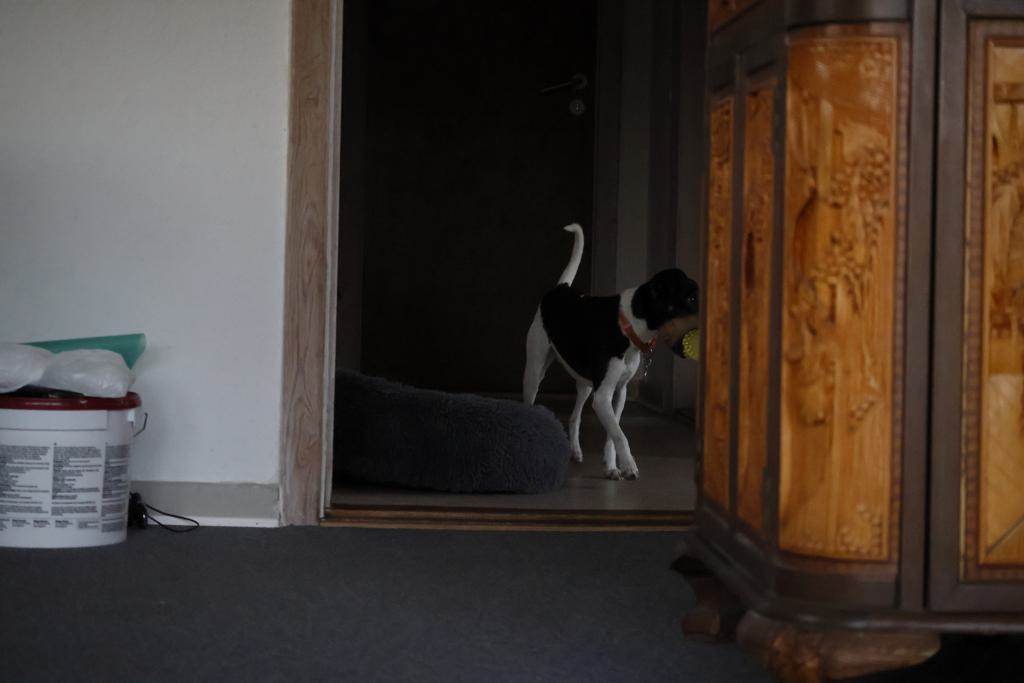Dog: (510, 216, 708, 490)
